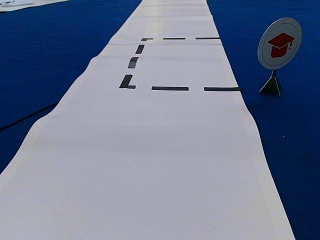school: (257, 18, 300, 69)
